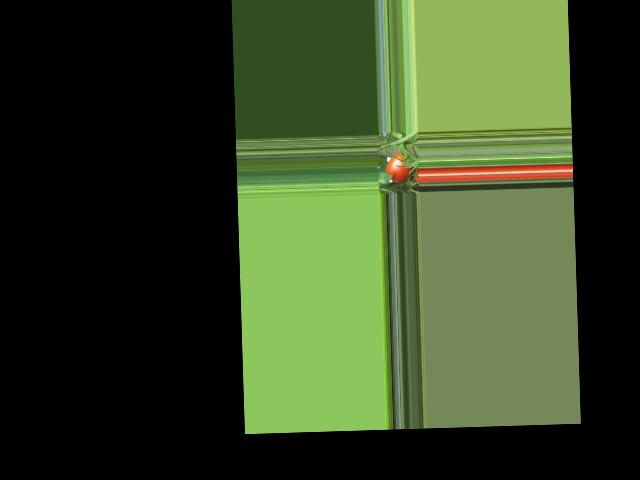tomato: (385, 152, 412, 183)
